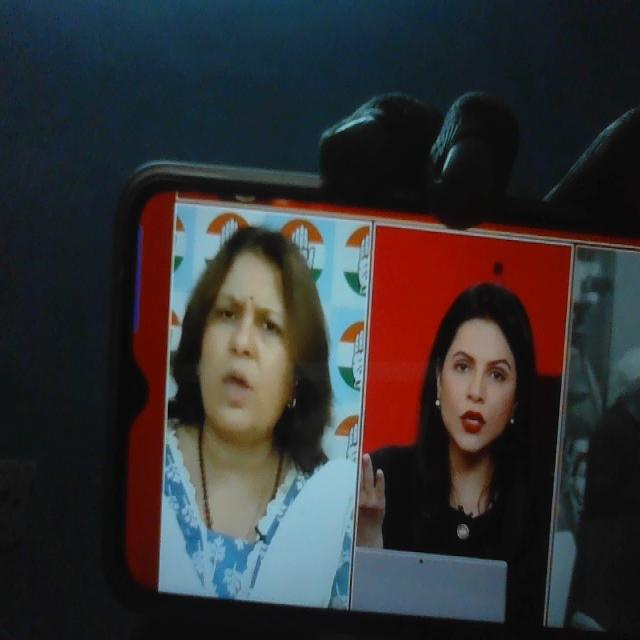fake: (192, 220, 310, 444), (426, 266, 536, 474)
